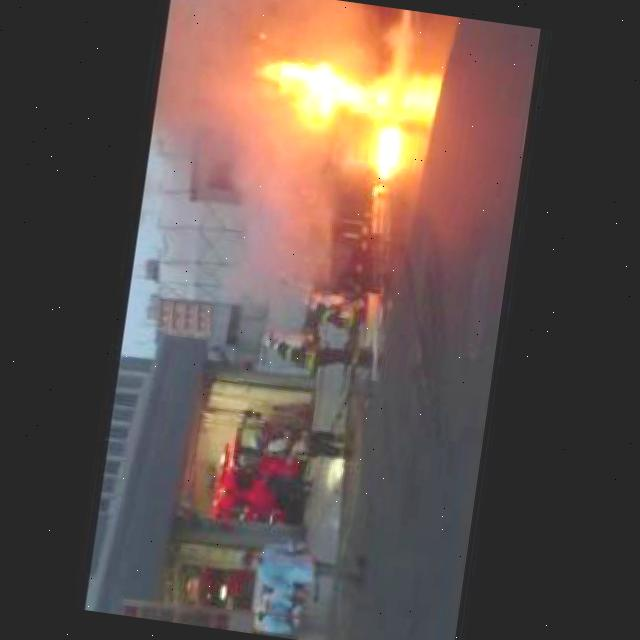fire: (253, 50, 374, 133), (361, 122, 404, 198)
